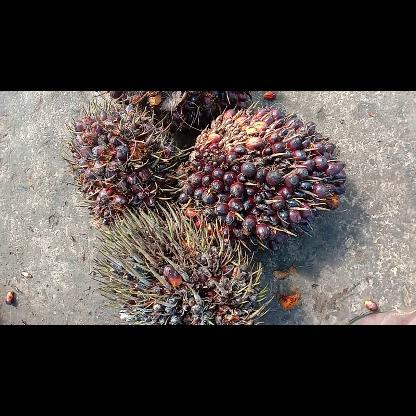Kurang masak: (178, 108, 346, 240), (66, 104, 176, 220)
TBS abnormal: (94, 204, 270, 324)
